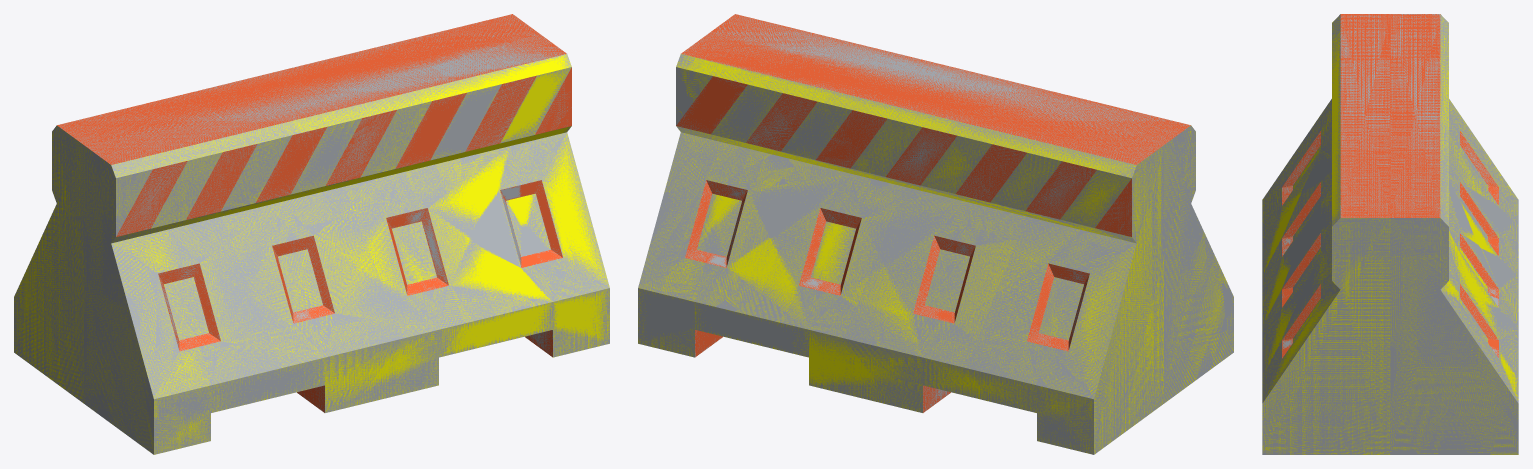
Rendered from barreira.fbx.
The picture shows the model from 3 angles, left to right: view 1: azimuth 30°, elevation 25°; view 2: azimuth 150°, elevation 25°; view 3: azimuth 270°, elevation 25°; orthographic projection. The views are drawn at different scales.
Parts seen in each view (by area): view 1: Component_1_2, Component_1_1; view 2: Component_1_1, Component_1_2; view 3: Component_1_1, Component_1_2.
Boxes of the visible parts, left/top/right/bottom form: Component_1_2: left=84, top=34, right=609, bottom=454; Component_1_1: left=14, top=14, right=539, bottom=403; Component_1_1: left=638, top=34, right=1163, bottom=454; Component_1_2: left=708, top=14, right=1233, bottom=403; Component_1_1: left=1390, top=14, right=1518, bottom=454; Component_1_2: left=1262, top=14, right=1390, bottom=454.
Size of the model in its own units: 5.83 by 3.16 by 3.1.
